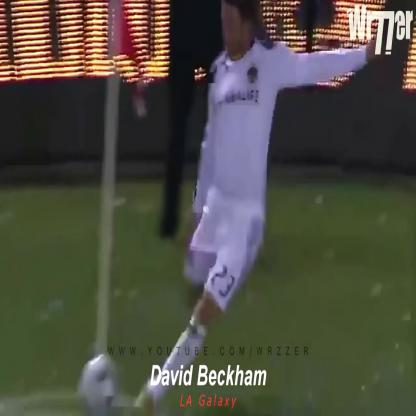corner kick: (48, 4, 270, 416)
